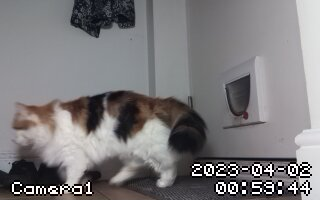clara: (7, 93, 212, 191)
